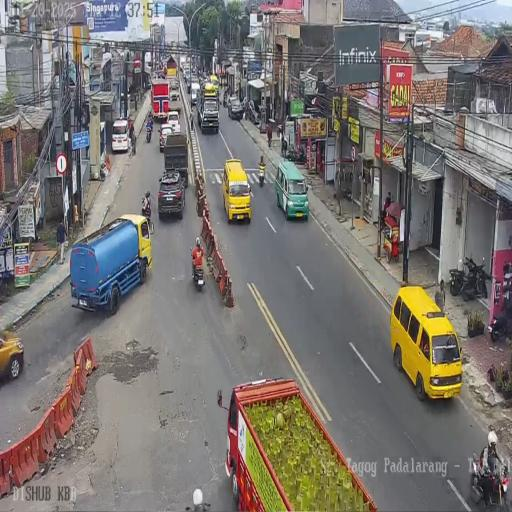3: (227, 376, 374, 511), (69, 216, 152, 315), (162, 134, 188, 190), (196, 81, 219, 133), (151, 80, 170, 122), (168, 81, 181, 113), (144, 52, 151, 76), (180, 55, 186, 71)
car: (390, 284, 462, 400), (274, 156, 306, 220), (222, 157, 253, 223), (111, 118, 130, 154), (227, 95, 244, 119), (166, 110, 180, 131), (190, 82, 200, 105), (210, 74, 218, 93), (184, 68, 191, 86), (157, 69, 166, 79)
truck: (449, 253, 488, 300), (488, 301, 512, 342), (190, 238, 206, 289), (284, 142, 305, 164), (258, 160, 265, 186), (281, 133, 287, 158), (146, 122, 152, 143), (243, 97, 249, 118), (276, 121, 283, 138), (222, 91, 228, 107)
